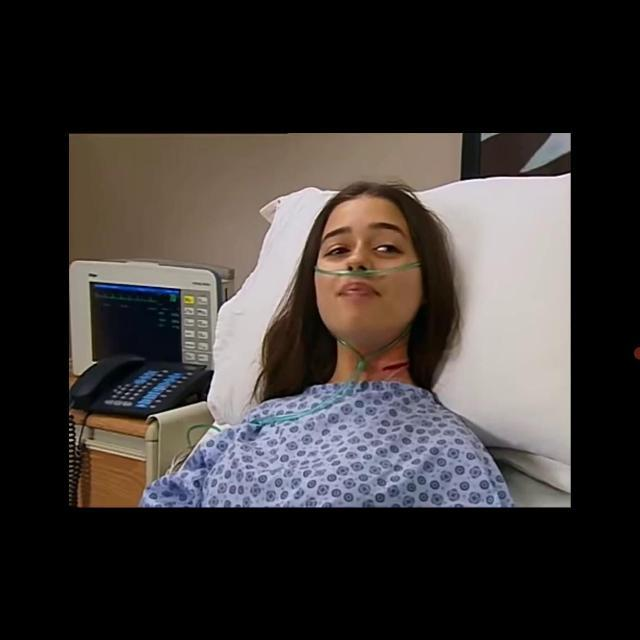blood: (382, 359, 410, 370)
